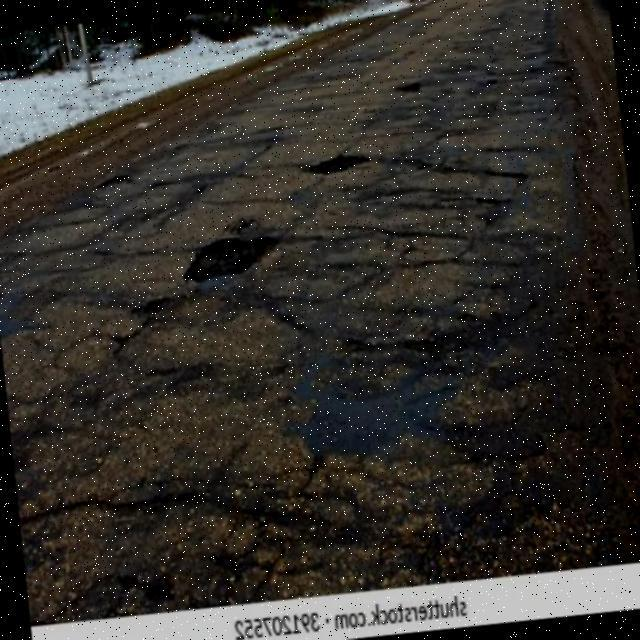Pothole: (183, 236, 277, 281), (312, 154, 369, 175), (98, 174, 127, 188), (395, 83, 420, 94)
